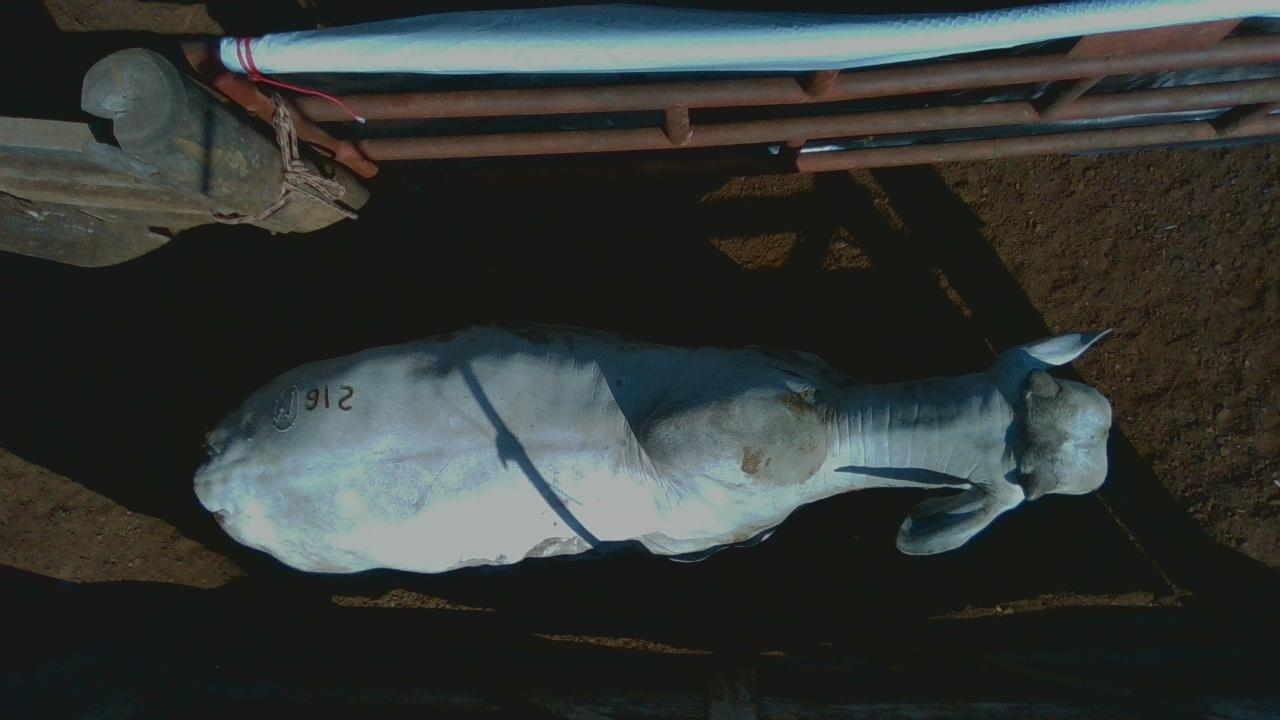cattle: (192, 318, 1115, 576)
